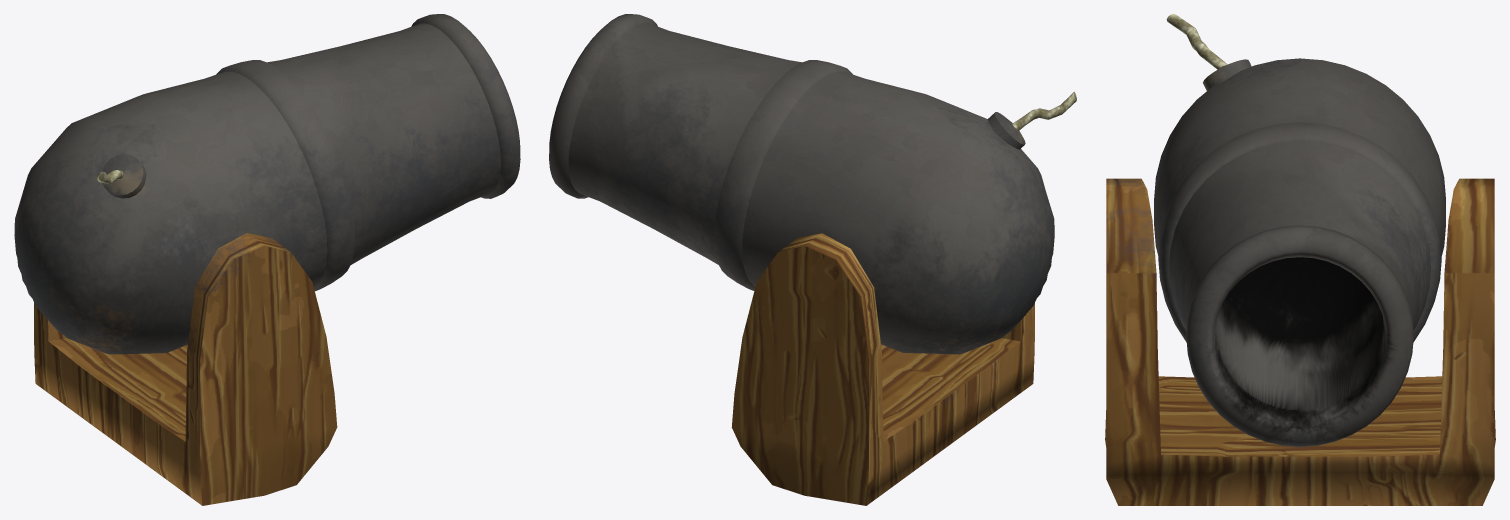
File: cannon.fbx
The picture shows the model from 3 angles, left to right: view 1: azimuth 30°, elevation 25°; view 2: azimuth 150°, elevation 25°; view 3: azimuth 270°, elevation 25°; orthographic projection. The views are drawn at different scales.
Parts seen in each view (by area): view 1: pCylinder1, pCube17, pCylinder3; view 2: pCylinder1, pCube17, pCylinder3; view 3: pCylinder1, pCube17, pCylinder3.
Part boxes in pixels (x1=…): pCylinder1: x1=14, y1=14, x2=520, y2=354; pCube17: x1=34, y1=233, x2=337, y2=505; pCylinder3: x1=96, y1=154, x2=146, y2=198; pCylinder1: x1=549, y1=14, x2=1054, y2=354; pCube17: x1=731, y1=233, x2=1034, y2=505; pCylinder3: x1=987, y1=91, x2=1076, y2=149; pCylinder1: x1=1154, y1=58, x2=1445, y2=446; pCube17: x1=1105, y1=178, x2=1495, y2=505; pCylinder3: x1=1166, y1=14, x2=1251, y2=90.
Bounding box in the file's own units: 125 × 91.8 × 79.34.
